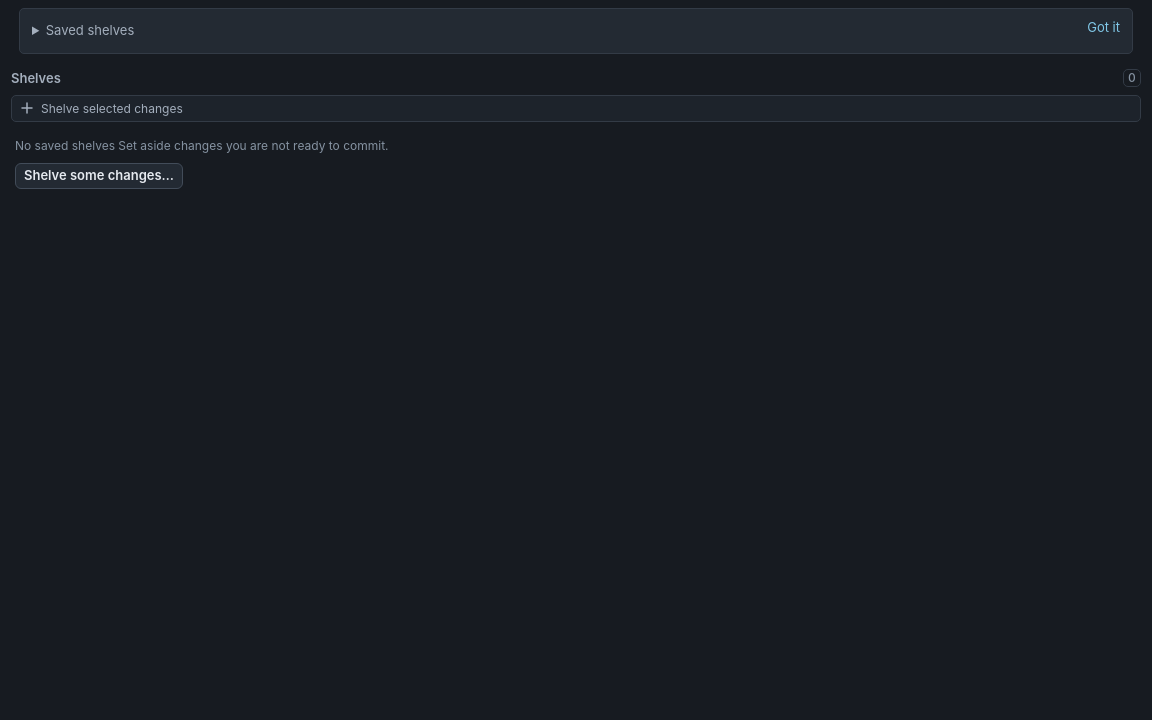
Test: empty states › an empty shelf list explains shelving and opens the shelve dialog
Expected: the text "No saved shelves" is shown, [15,138,115,153]
Expected: the element showing "Saved shelves Got it" is shown, [19,8,1133,54]
Click the button "Shelve some changes…" at [99, 176], box [15,163,183,189]
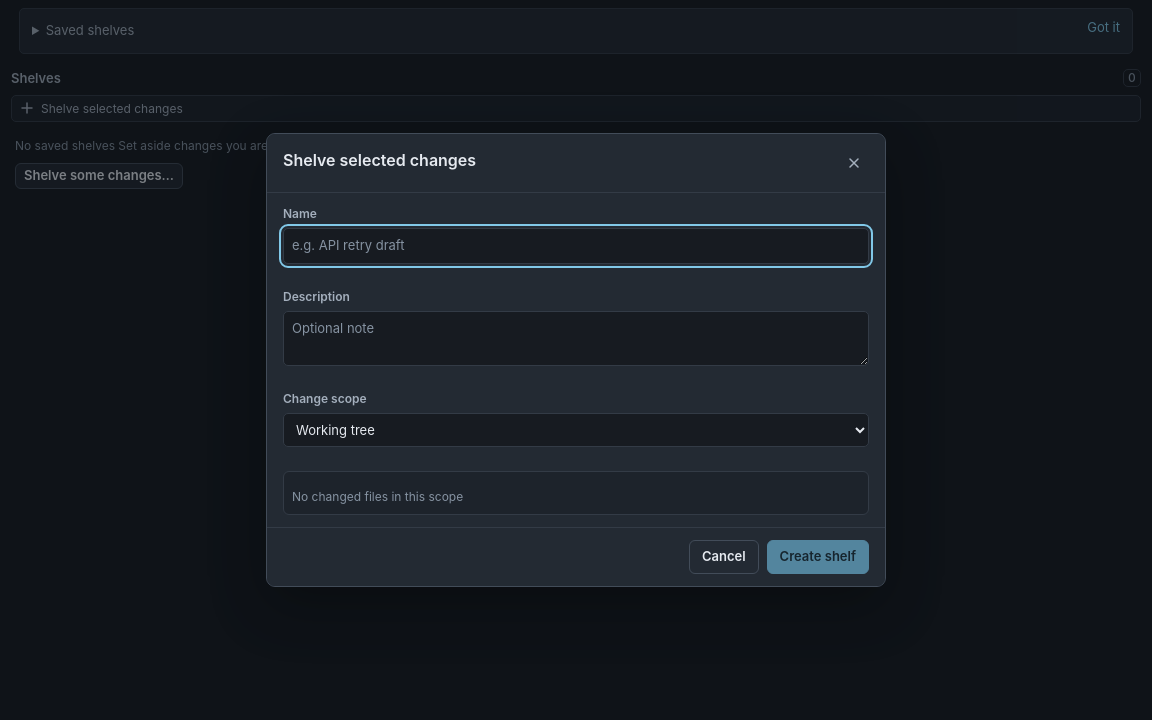
Now the dialog is shown, box [266,133,886,587]
